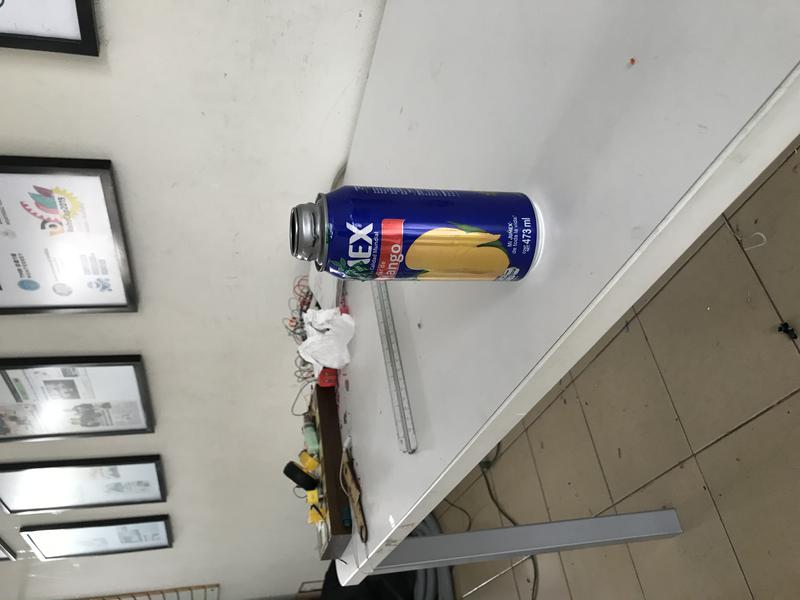jumex_botella: (288, 184, 545, 284)
